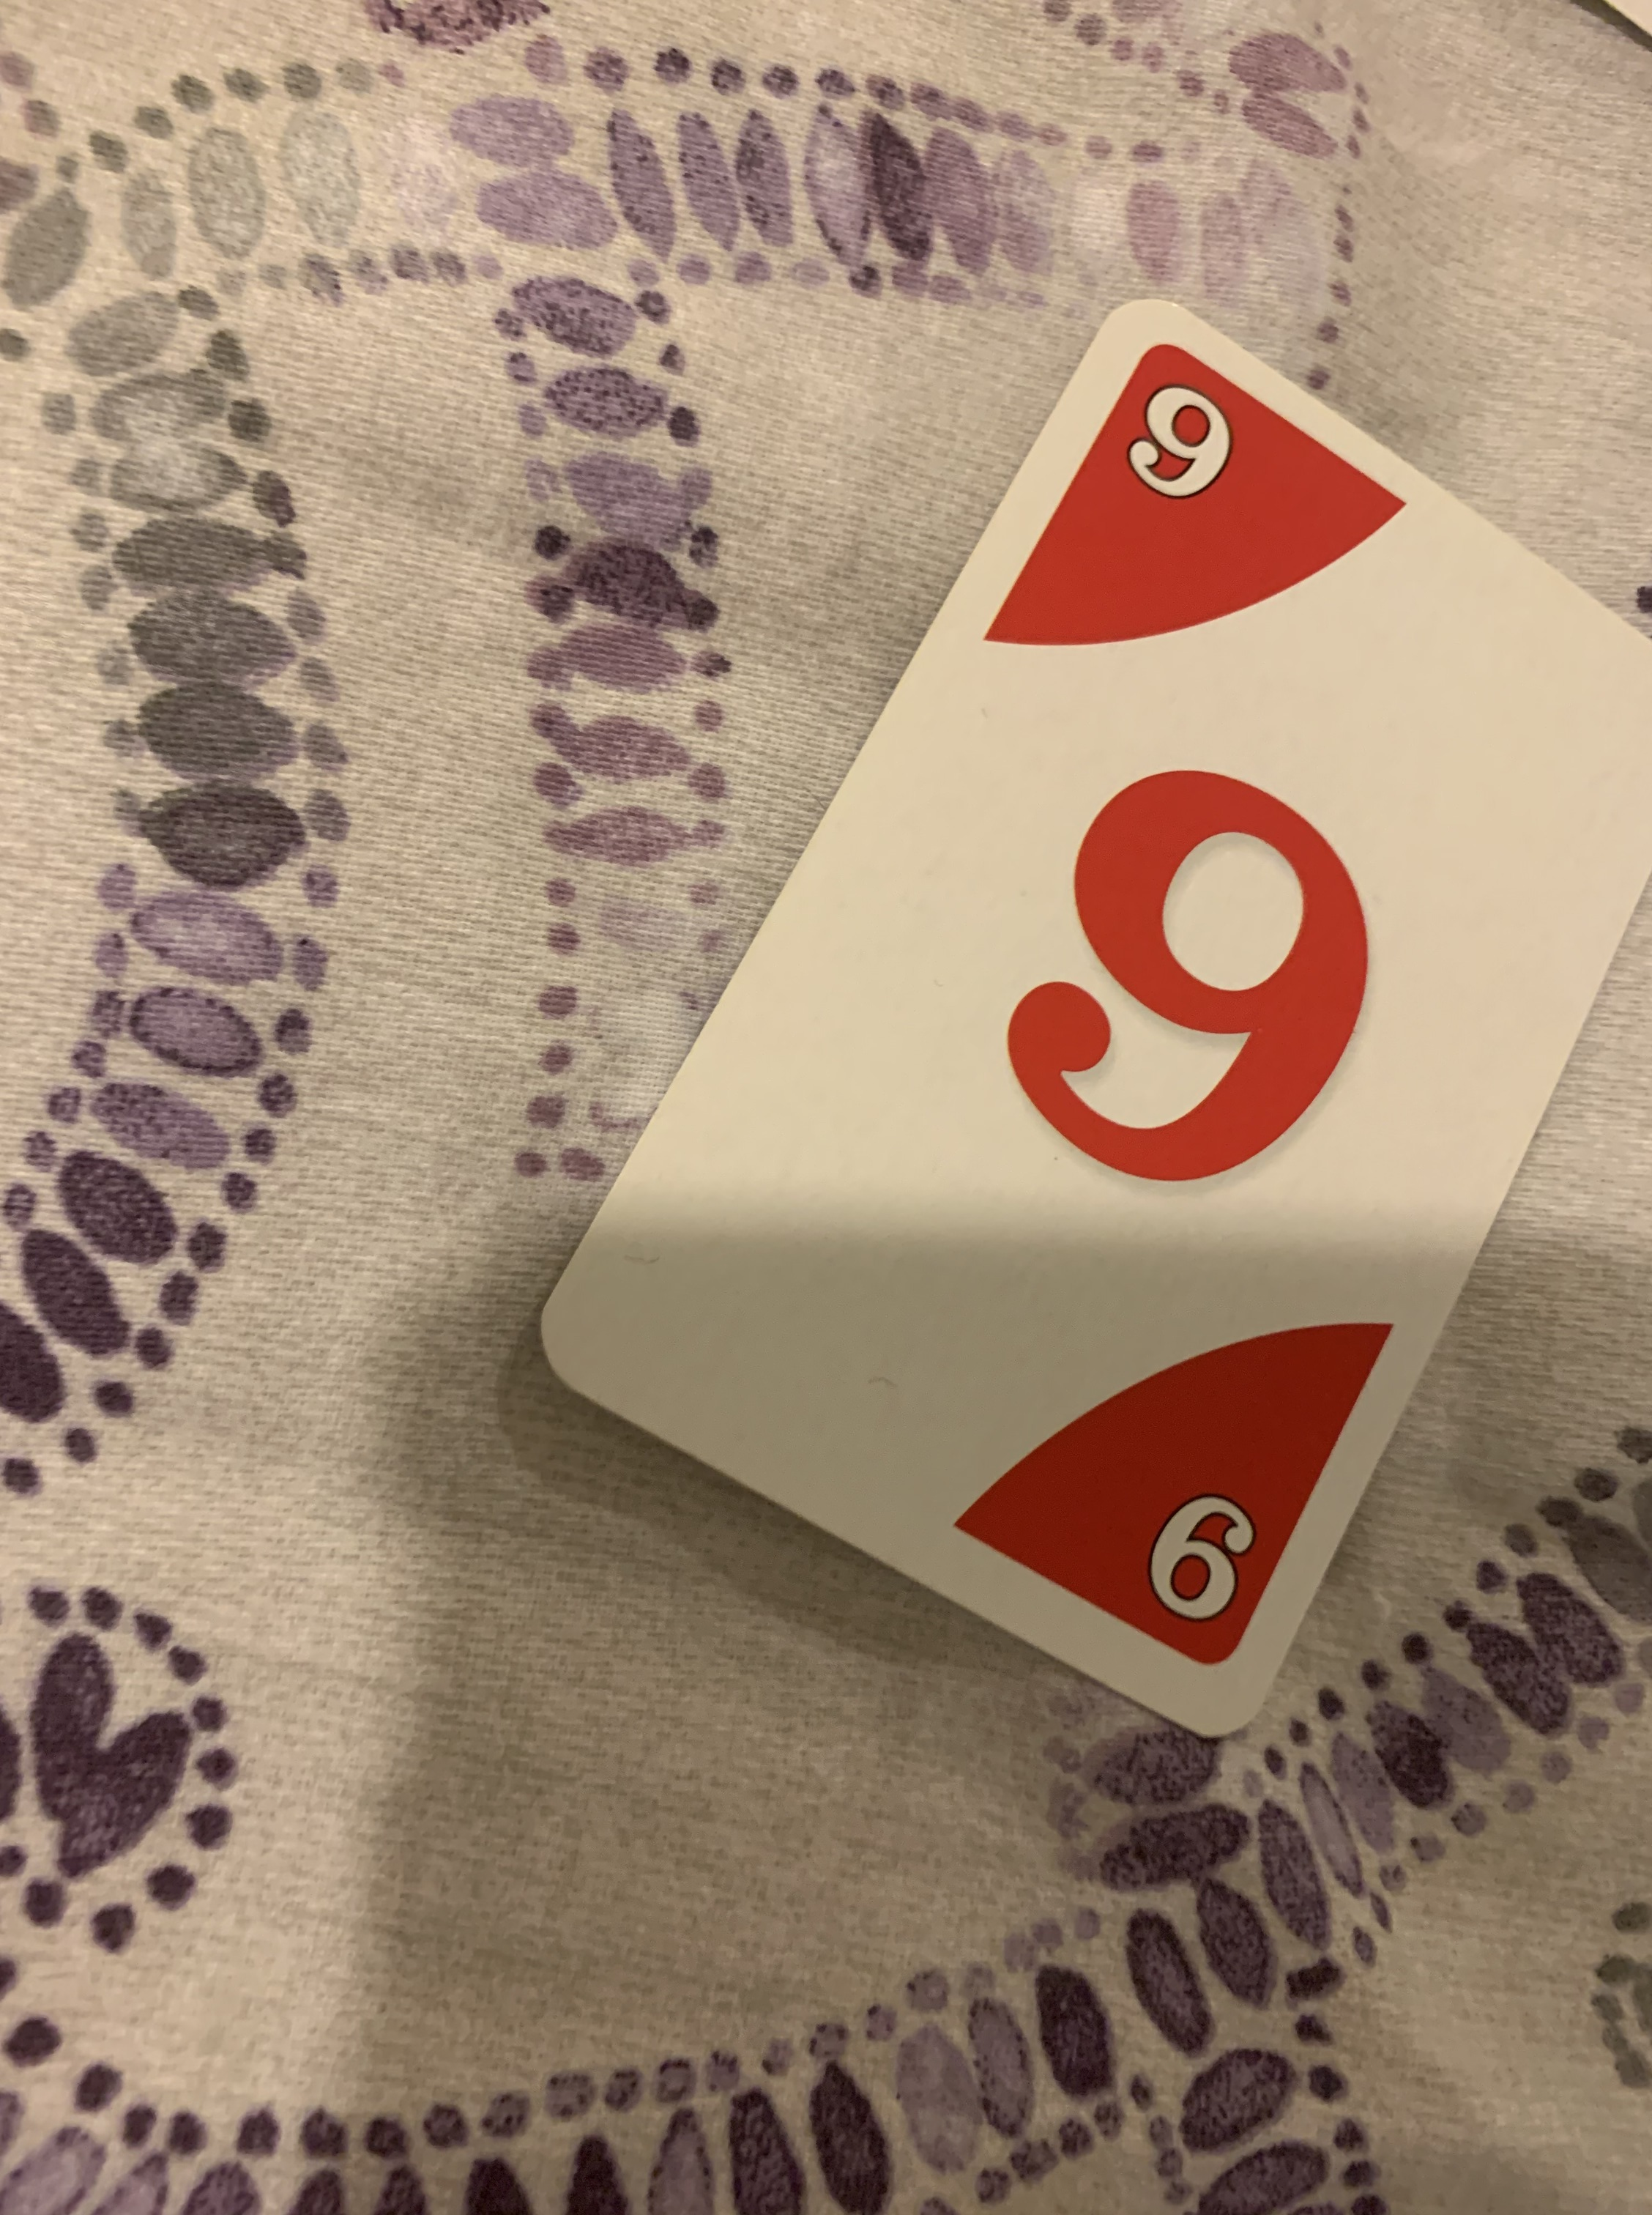nine: (529, 290, 1652, 1736)
